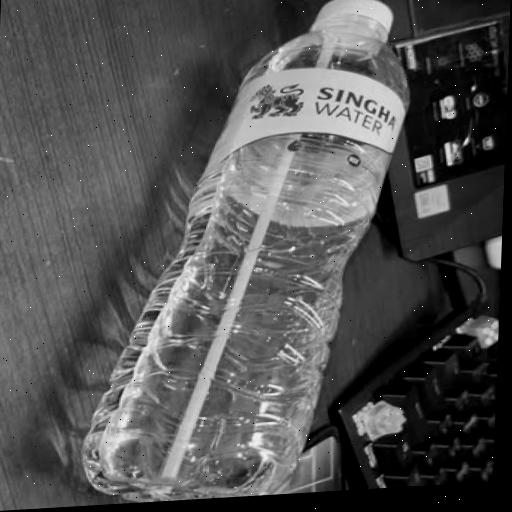ba: (59, 0, 432, 507)
